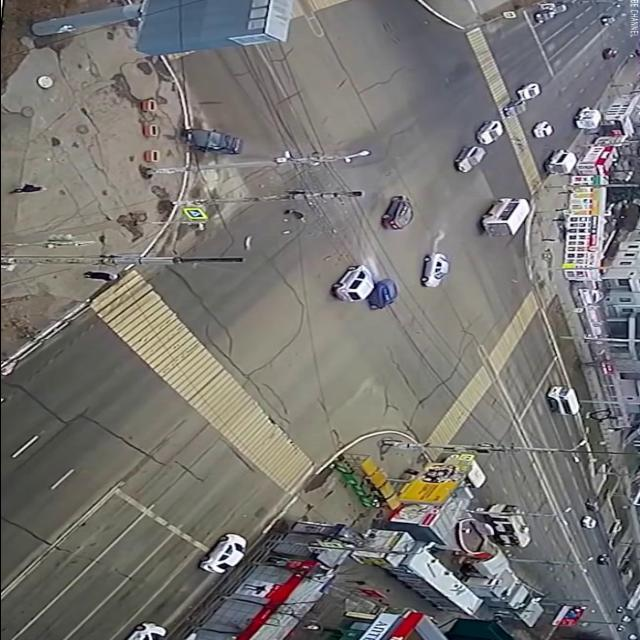accident: (326, 258, 402, 315), (168, 124, 272, 158)
non_accident: (445, 117, 511, 175), (496, 81, 550, 119)
